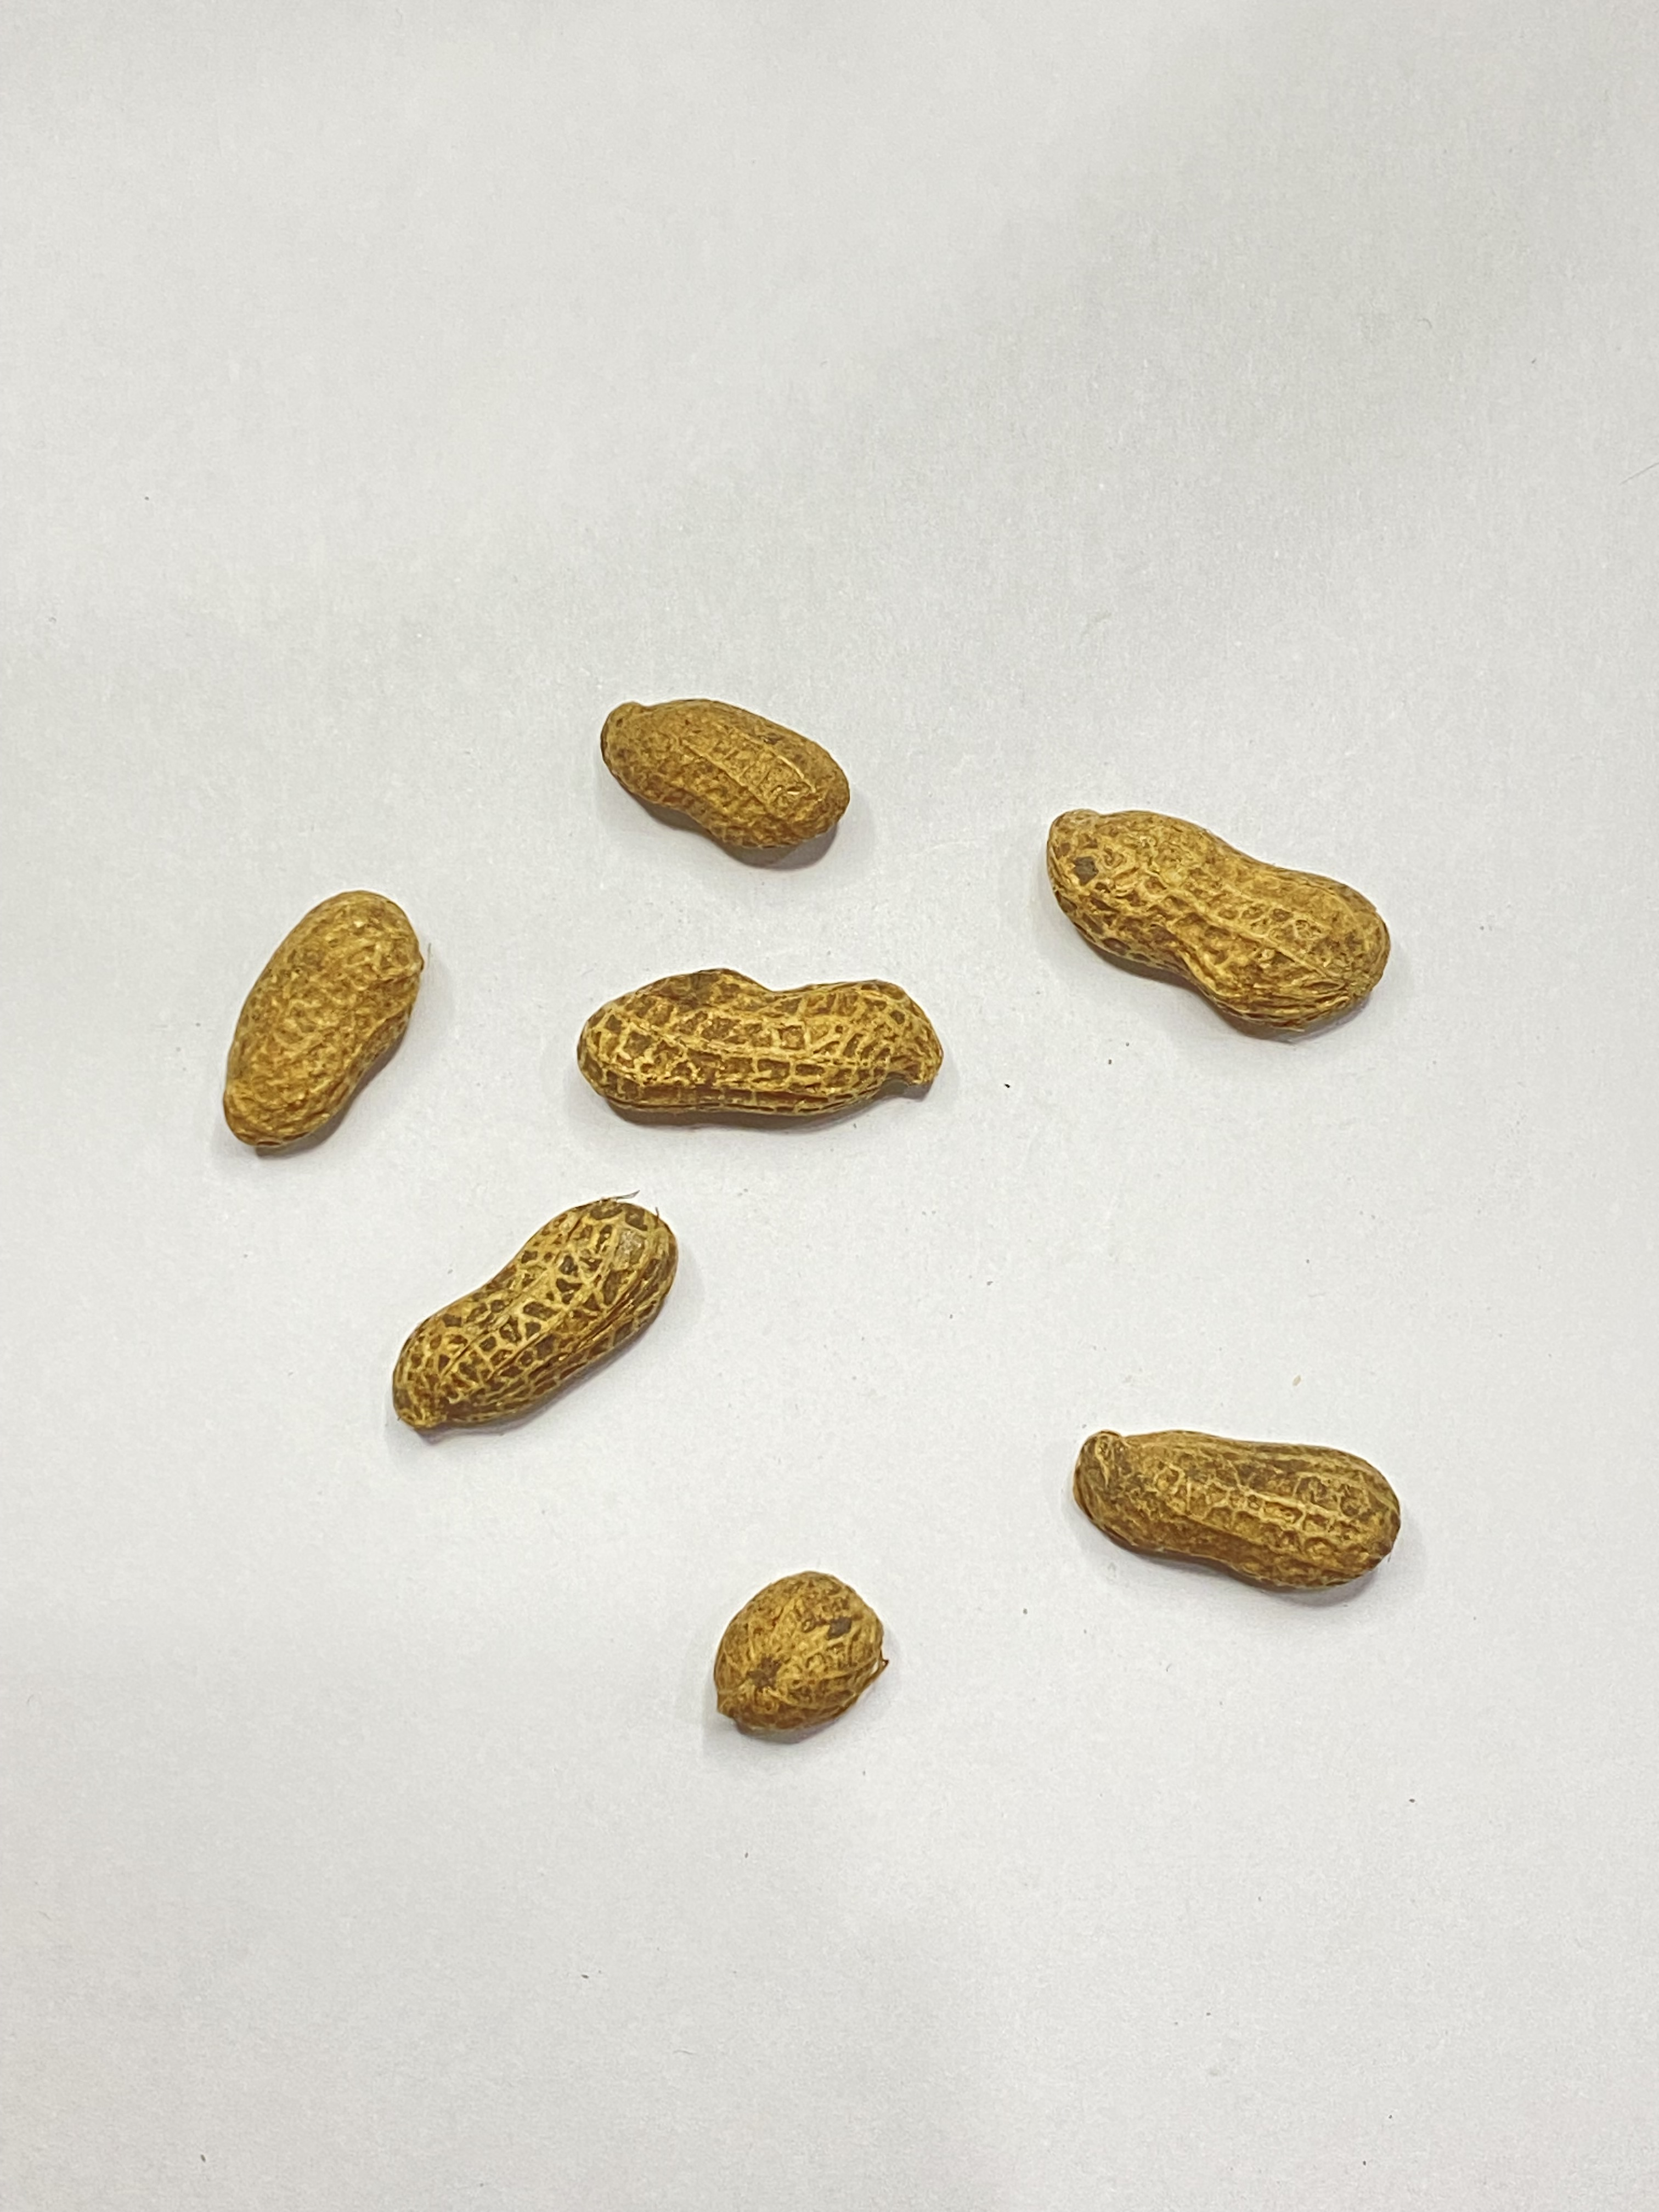kacang1: (223, 869, 439, 1165), (666, 1538, 945, 1754), (601, 660, 849, 883)
kacang2: (1037, 770, 1398, 1068), (1073, 1346, 1413, 1623), (380, 1195, 690, 1442), (563, 960, 958, 1148)
